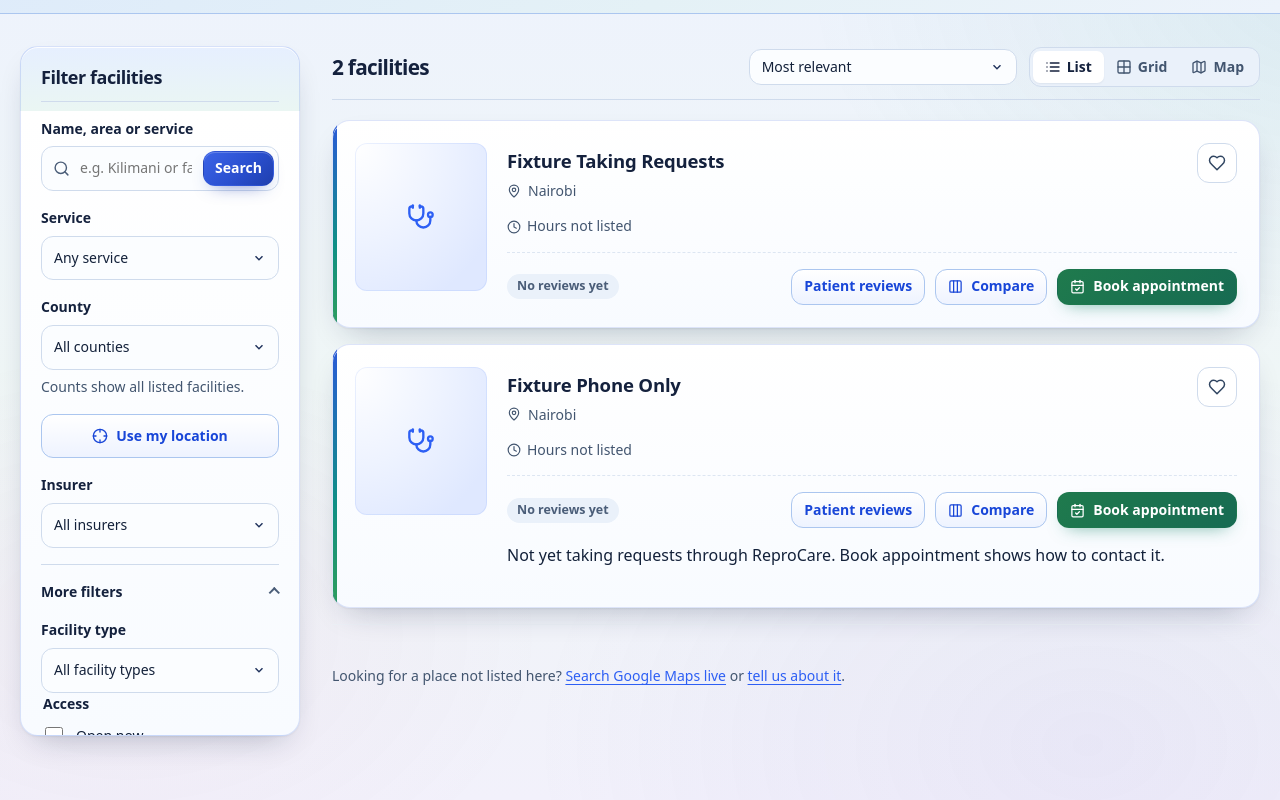
Test case: opens the request form or the contact panel from a directory card, depending on participation
(page scrolled)
Click the 2nd button "Book appointment" at coordinates (1147, 510), box [1057,492,1237,528]
(page scrolled)
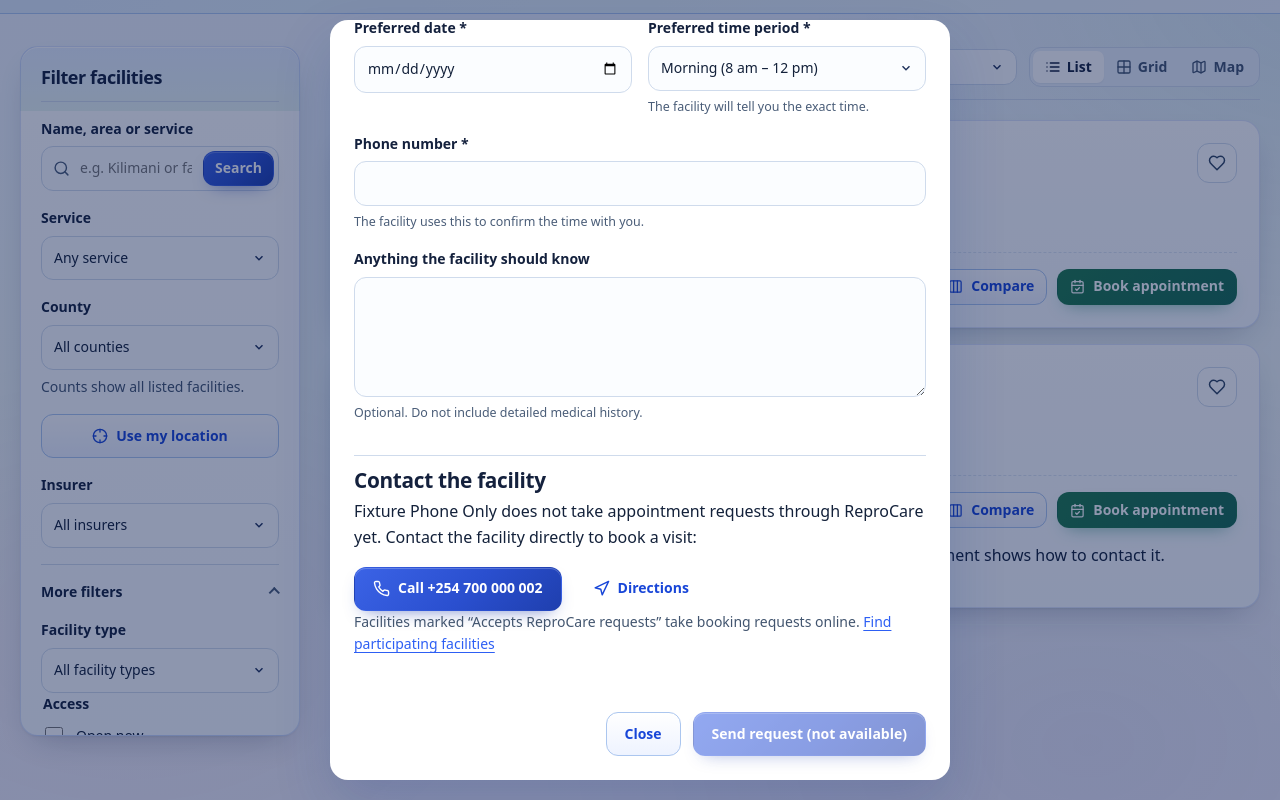
Expected: the text "does not take appointment requests through ReproCare yet" is shown, [354,500,923,548]
Expected: the link "Call +254 700 000 002" is shown, [354,567,562,611]
Click the button "Close" at coordinates (643, 734), box [606,712,681,756]
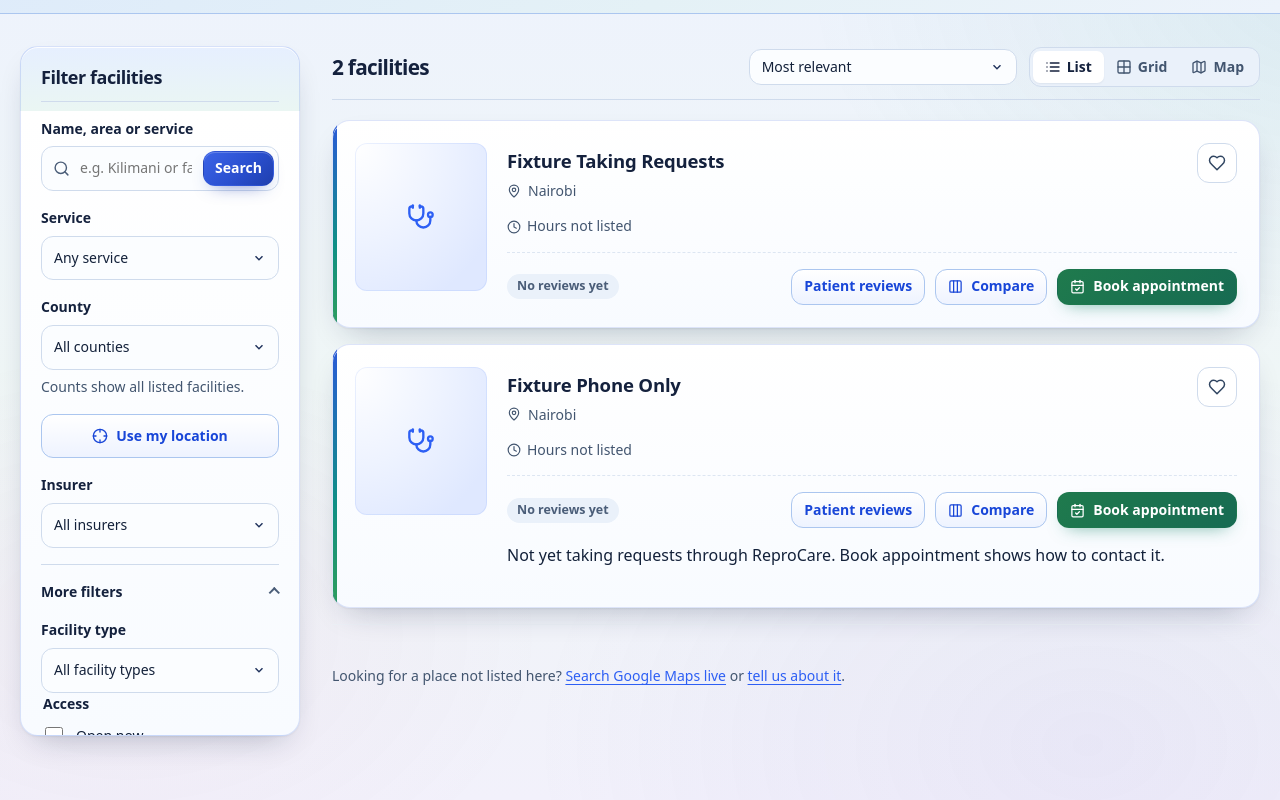
Click the 1st button "Book appointment" at coordinates (1147, 287), box [1057,269,1237,305]
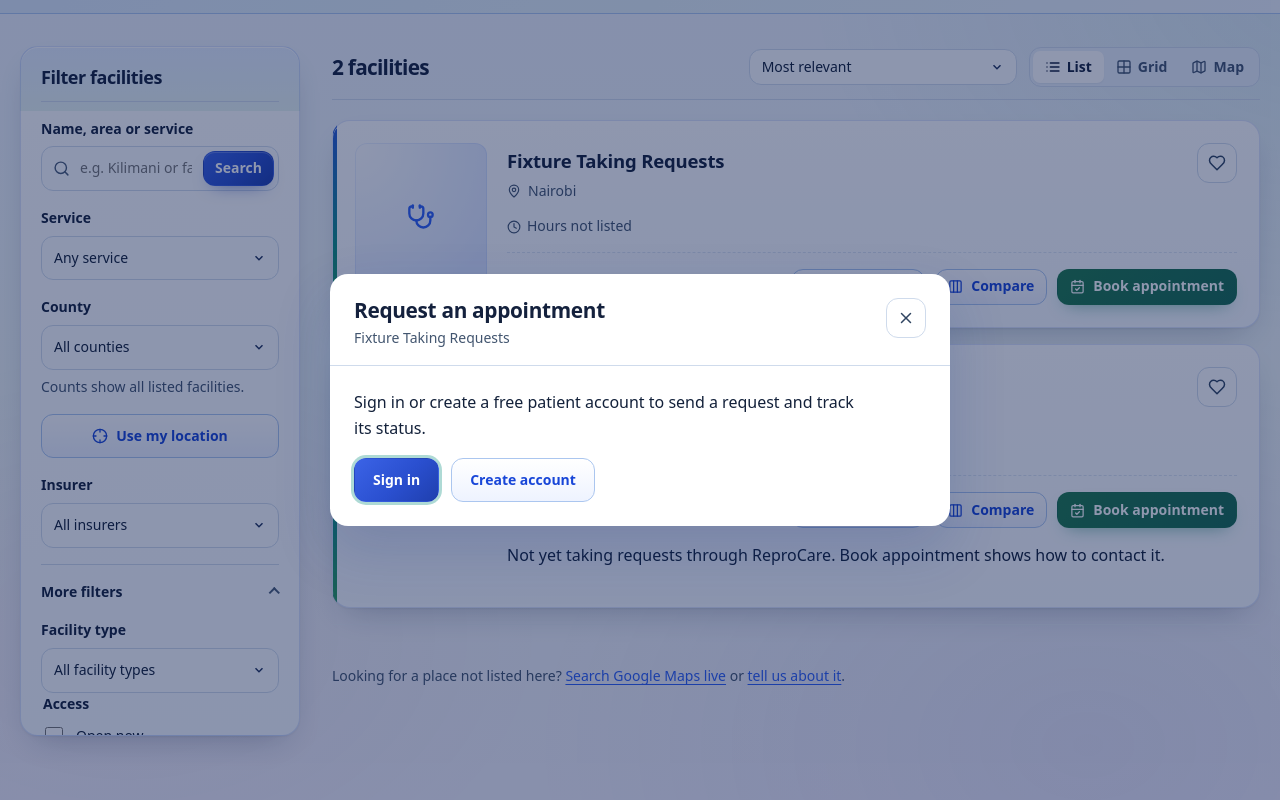
Expected: the heading "Request an appointment" is shown, [354,298,605,322]
